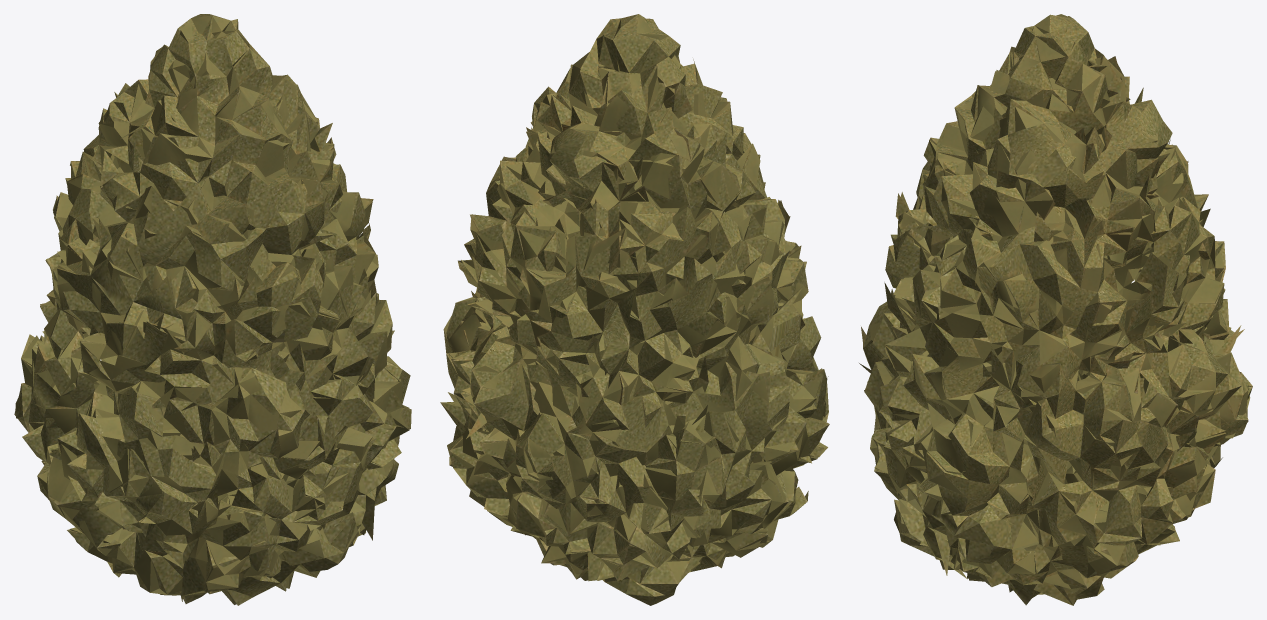
The model's file is meshy-cannabis-bud.glb.
The picture shows the model from 3 angles, left to right: view 1: azimuth 30°, elevation 25°; view 2: azimuth 150°, elevation 25°; view 3: azimuth 270°, elevation 25°; orthographic projection.
Parts seen in each view (by area): view 1: mesh_node; view 2: mesh_node; view 3: mesh_node.
Boxes of the visible parts, box(x1,y1,x2,y2) form: mesh_node: box(14, 14, 411, 605); mesh_node: box(440, 14, 829, 605); mesh_node: box(859, 14, 1252, 605).
Bounding box in the file's own units: 1.15 × 1.87 × 1.18.
Materials: 1 (1 with a texture image).
